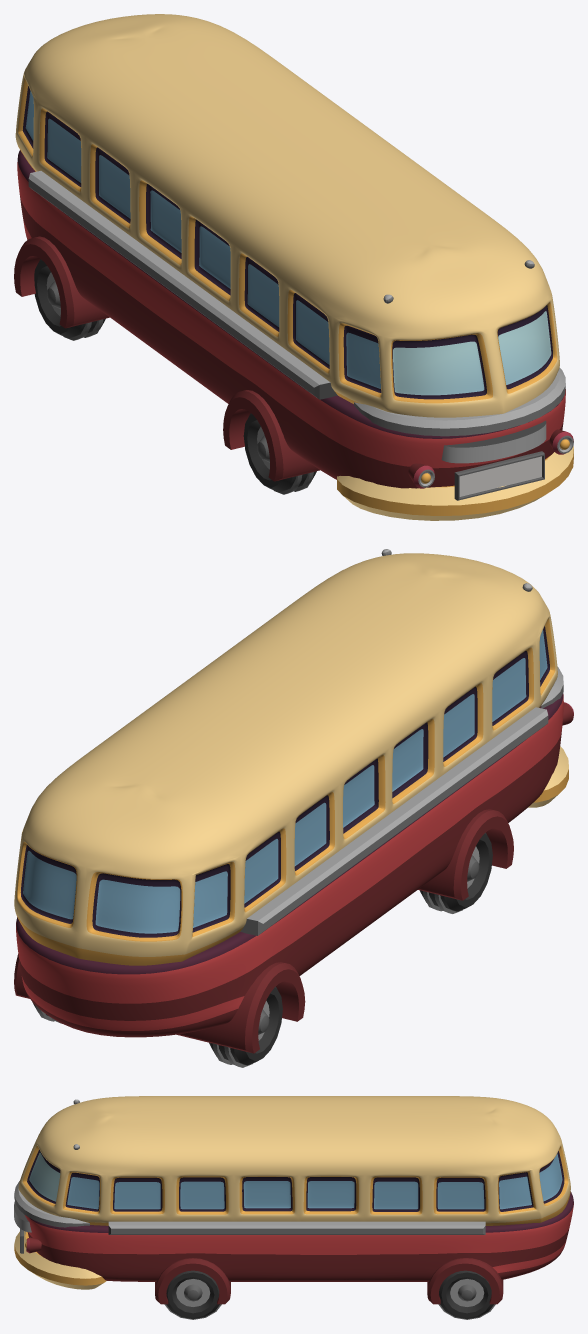
Rendered from Bus (1).fbx.
The picture shows the model from 3 angles, top to bottom: view 1: azimuth 30°, elevation 25°; view 2: azimuth 150°, elevation 25°; view 3: azimuth 270°, elevation 25°; orthographic projection. The views are drawn at different scales.
Parts seen in each view (by area): view 1: Bus; view 2: Bus; view 3: Bus.
Part boxes in pixels (x1=…): Bus: x1=14, y1=14, x2=573, y2=520; Bus: x1=14, y1=549, x2=573, y2=1067; Bus: x1=14, y1=1096, x2=573, y2=1319.
Bounding box in the file's own units: 1648 × 1764 × 5146.
